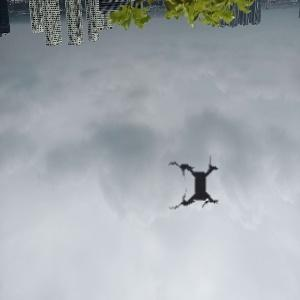drone: (142, 132, 251, 241)
